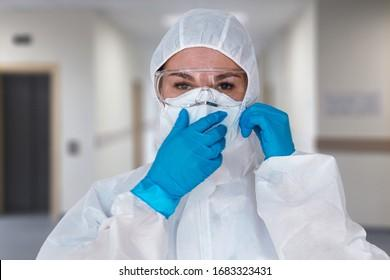gloves: (130, 108, 228, 219), (238, 102, 297, 159)
